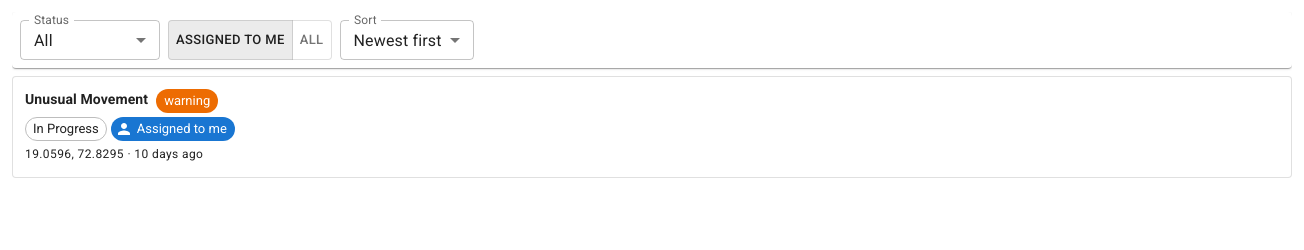
Scenario: IncidentList › shows the empty state when the filter matches nothing
Press the mouse on the dropdown named "Status": (43, 40) top-left (34, 30), bottom-right (53, 50)
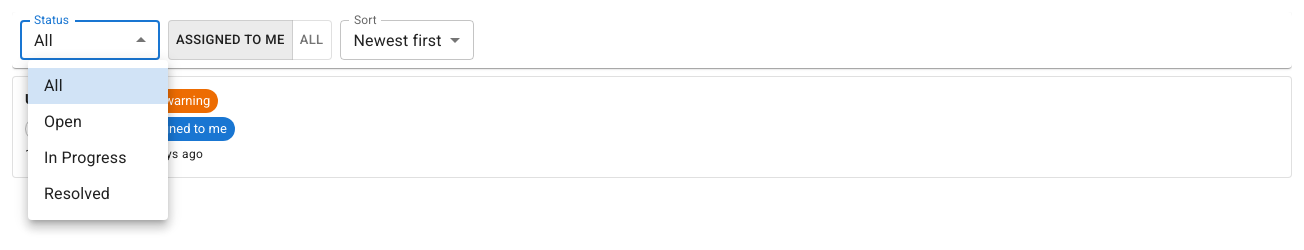
Click the option "Resolved": (77, 194) top-left (44, 184), bottom-right (110, 203)
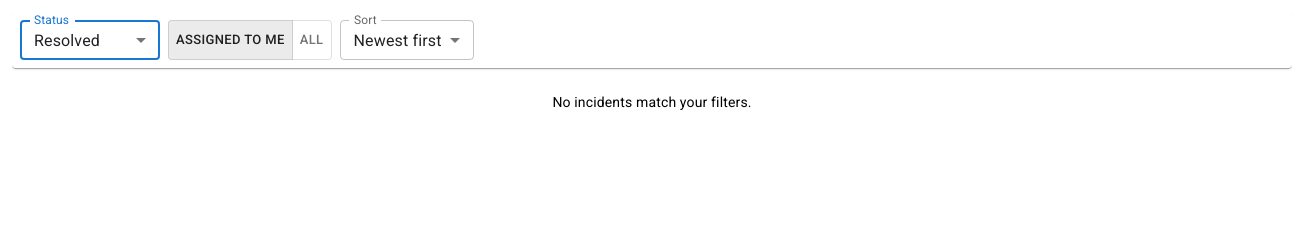
Expected: the text "No incidents match your filters." is shown, top-left (552, 94), bottom-right (752, 110)
